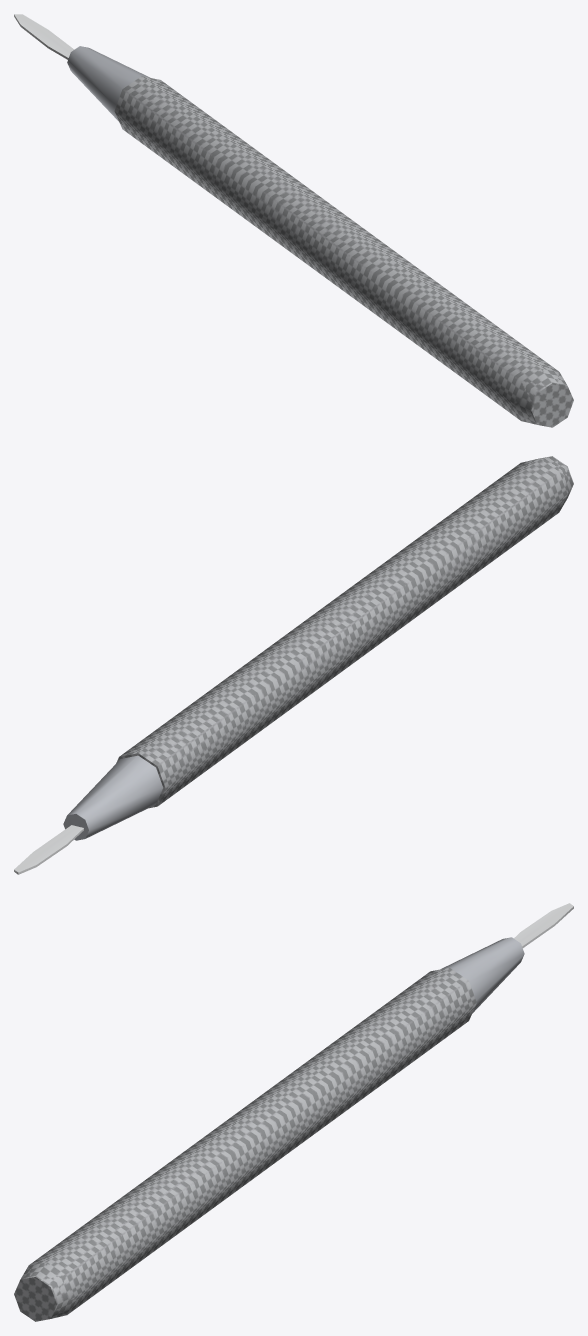
File: beaver_handle.glb
The picture shows the model from 3 angles, top to bottom: view 1: azimuth 30°, elevation 25°; view 2: azimuth 150°, elevation 25°; view 3: azimuth 330°, elevation 25°; orthographic projection.
Visible parts, largest first — view 1: m6_beaver_handle; view 2: m6_beaver_handle; view 3: m6_beaver_handle.
Part boxes in pixels (x1,y1,x2,y2): m6_beaver_handle: (14,14,573,427); m6_beaver_handle: (14,456,573,874); m6_beaver_handle: (14,903,573,1321).
Size of the model in its own units: 0.0076 by 0.0076 by 0.13.
1 material, 1 textured.
